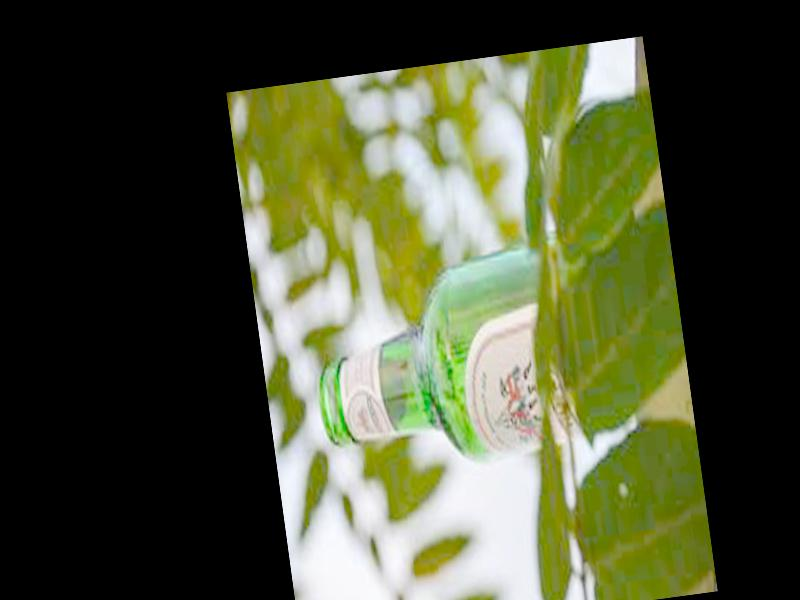Beer: (302, 245, 588, 480)
